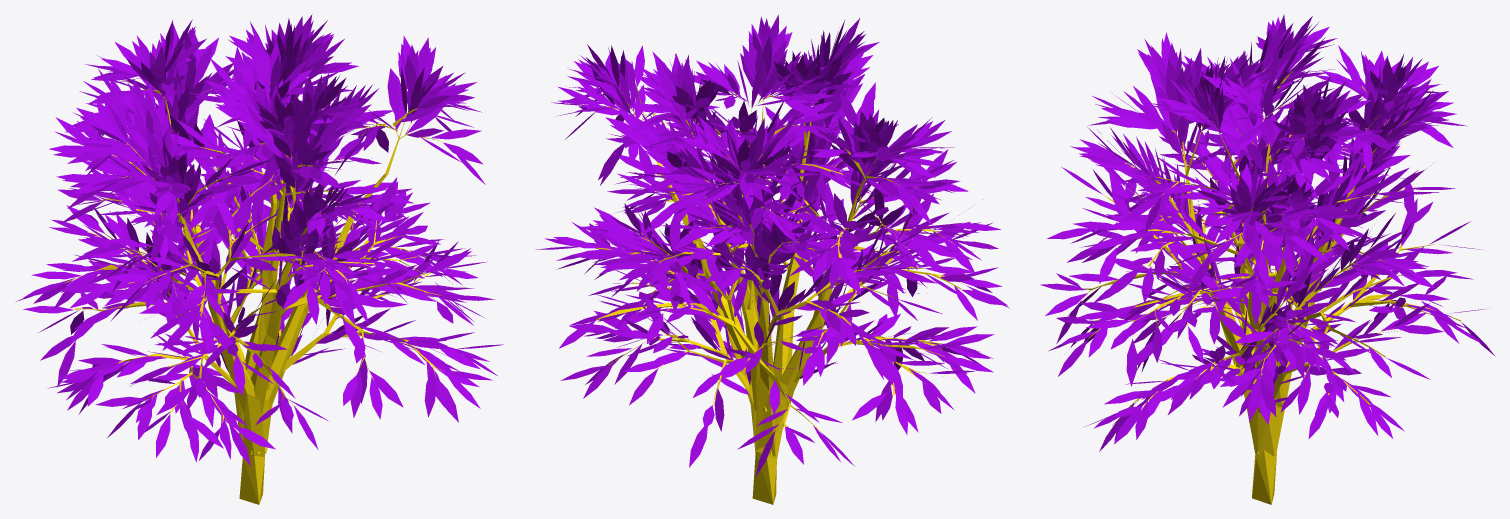
File: PurpleplusYellowNewTree.fbx
The picture shows the model from 3 angles, left to right: view 1: azimuth 30°, elevation 25°; view 2: azimuth 150°, elevation 25°; view 3: azimuth 270°, elevation 25°; orthographic projection.
Parts seen in each view (by area): view 1: leaves; view 2: leaves; view 3: leaves.
Boxes of the visible parts, left/top/right/bottom form: leaves: left=16, top=14, right=503, bottom=504; leaves: left=535, top=14, right=1009, bottom=504; leaves: left=1040, top=14, right=1494, bottom=504.
Size of the model in its own units: 567 by 576 by 536.
